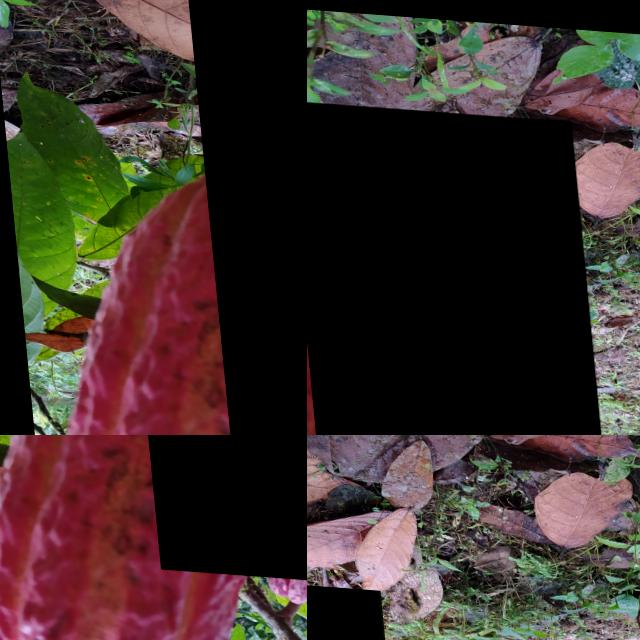Fitoftora: (307, 97, 603, 435), (182, 0, 307, 435)
Monilia: (121, 435, 307, 580)
